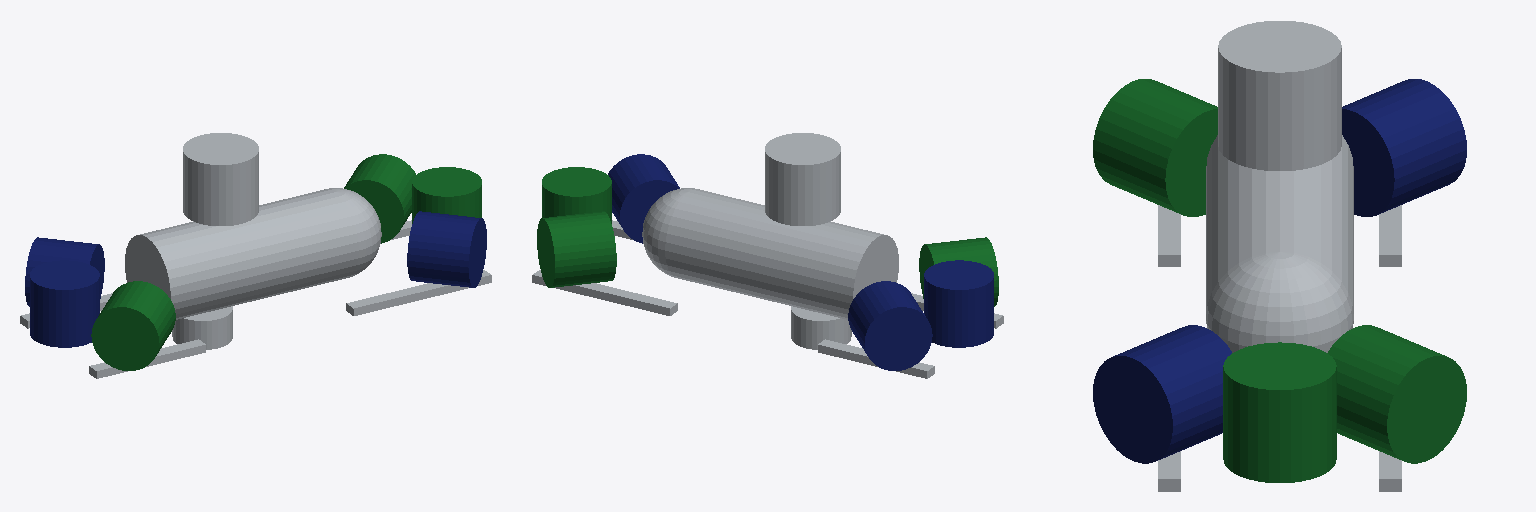
robot.urdf — hauv:
<?xml version="1.0"?>
<!--
  HAUV - Gazebo Classic 11 simulation model (ROS2 Foxy).

  This is NOT the RViz model with a plugin bolted on. RViz needs geometry and
  frames; Gazebo needs mass, inertia, collision, buoyancy and forces. What
  carried over from hauv_lite.urdf is the geometry and the joint tree - about a
  third of this file. The rest is new.

  Everything mass-related below came out of the CAD, with vendor masses
  substituted where Fusion had no material (it was defaulting the batteries,
  PCBs and the DVL to ALUMINIUM - a 4.4 kg DVL electronics box and 1.9 kg
  battery packs). Corrected figures:

      base_link (all but the thrusters)  9.972 kg
      6 x T200                           0.344 kg each
      TOTAL                             12.036 kg
      displacement                       7063 cm3 -> 7.240 kgf in seawater
      NET                               -4.80 kg  (see the two warnings below)

  ==================== WARNING 1: it sinks ====================
  4.80 kg negative. Neutral trim needs ~7.7 L of syntactic foam (rho 0.40) -
  more volume than the pressure hull itself (4.5 L). Until that foam is in the
  model, the sim will just fall to the seabed and every result will be wrong.

  ==================== WARNING 2: it is roll-unstable ====================
  CG sits at Z = +8.2 mm, CB at Z = +1.8 mm, so the centre of gravity is 6.4 mm
  ABOVE the centre of buoyancy. That is statically unstable in roll and pitch -
  it will capsize.

  This matters because the 5-DOF thruster layout was justified on the vehicle
  being *passively* roll-stable, and with the Subsonus (1.4 kg at Z +121) and
  the upper light pair up top, it currently is not. Roll is unactuated, so
  nothing recovers it.

  The two warnings share a fix: the ~7.7 L of foam has to go HIGH. Mounted above
  the hull it both trims the vehicle and lifts CB well clear of CG. Do that
  before trusting any simulation output.

  ==================== Foxy caveat ====================
  ROS2 Foxy is EOL and the modern underwater stack (gz-sim buoyancy +
  hydrodynamics, DAVE) targets Humble and later. This model therefore targets
  Gazebo Classic 11:
    - buoyancy      : libBuoyancyPlugin.so, ships with Gazebo Classic. Real.
    - thrust        : libgazebo_ros_force.so per thruster, ships with
                      gazebo_ros_pkgs. Real - drive it from /motor_data.
    - hydrodynamics : NOT AVAILABLE. <velocity_decay> below is crude isotropic
                      damping, not added mass or quadratic drag. Good enough to
                      stop the vehicle coasting forever; not good enough for
                      control tuning. Proper added-mass needs a custom plugin.
-->
<robot name="hauv">

  <material name="alu">      <color rgba="0.72 0.74 0.76 1.0"/></material>
  <material name="cw_green"> <color rgba="0.13 0.45 0.20 1.0"/></material>
  <material name="ccw_blue"> <color rgba="0.13 0.18 0.45 1.0"/></material>

  <link name="base_link">
    <visual><origin xyz="-0.0226 0 0" rpy="0 1.5707963 0"/>
      <geometry><cylinder radius="0.0635" length="0.300"/></geometry>
      <material name="alu"/></visual>
    <visual><origin xyz="0.1274 0 0" rpy="0 0 0"/>
      <geometry><sphere radius="0.0635"/></geometry>
      <material name="alu"/></visual>
    <visual><origin xyz="0.205 0.095 -0.070" rpy="0 0 0"/>
      <geometry><box size="0.220 0.020 0.012"/></geometry><material name="alu"/></visual>
    <visual><origin xyz="0.205 -0.095 -0.070" rpy="0 0 0"/>
      <geometry><box size="0.220 0.020 0.012"/></geometry><material name="alu"/></visual>
    <visual><origin xyz="-0.2275 0.095 -0.070" rpy="0 0 0"/>
      <geometry><box size="0.175 0.020 0.012"/></geometry><material name="alu"/></visual>
    <visual><origin xyz="-0.2275 -0.095 -0.070" rpy="0 0 0"/>
      <geometry><box size="0.175 0.020 0.012"/></geometry><material name="alu"/></visual>
    <visual><origin xyz="-0.0558 0 0.1253" rpy="0 0 0"/>
      <geometry><cylinder radius="0.053" length="0.0934"/></geometry><material name="alu"/></visual>
    <visual><origin xyz="-0.085 0 -0.08615" rpy="0 0 0"/>
      <geometry><cylinder radius="0.04185" length="0.0443"/></geometry><material name="alu"/></visual>

    <!-- Collision kept to two primitives on purpose: contact solving is the
         expensive part of a Gazebo step, and detail here buys nothing. -->
    <collision><origin xyz="-0.0226 0 0" rpy="0 1.5707963 0"/>
      <geometry><cylinder radius="0.0635" length="0.375"/></geometry></collision>
    <collision><origin xyz="0 0 -0.070" rpy="0 0 0"/>
      <geometry><box size="0.630 0.210 0.012"/></geometry></collision>

    <!-- From CAD, vendor masses substituted. COM is 12 mm ABOVE the tube axis
         (the Subsonus). See WARNING 2. -->
    <inertial>
      <origin xyz="-0.0221 0.0 0.0120" rpy="0 0 0"/>
      <mass value="9.972"/>
      <inertia ixx="0.104697" ixy="0.0" ixz="0.0"
               iyy="0.343638" iyz="0.0" izz="0.283995"/>
    </inertial>
  </link>

  <gazebo reference="base_link">
    <material>Gazebo/Grey</material>
    <!-- Crude stand-in for hydrodynamic drag. NOT added mass. -->
    <!--
      Crude stand-in for hydrodynamic drag. NOT added mass.

      RETUNED 2026-07-20. These were 0.20 / 0.30, which made the vehicle almost
      immovable: 70 N of vertical thrust produced 0.001 m/s, slower than its own
      passive buoyancy drift. Gazebo applies velocity_decay PER TIMESTEP, not
      per second, so at dt = 0.001 s a value of 0.20 is a ~5 ms damping constant.
      Terminal velocity works out as a*dt/decay, which measured 0.058 m/s under
      400 N - i.e. the damping, not the thrust, decided how fast it moved.

      Sized so full thrust gives a realistic ROV speed instead:
          vertical  70 N / 12 kg = 5.8 m/s^2 ;  0.0058 -> ~1.0 m/s terminal
      Real drag is quadratic in velocity; this is linear, so it is only honest
      near the speed it was tuned at. Good enough to exercise control loops,
      not good enough for hydrodynamic claims.
    -->
    <velocity_decay>
      <linear>0.006</linear>
      <angular>0.02</angular>
    </velocity_decay>
  </gazebo>

  <!-- ============ thrusters ============
       Inertia is a solid cylinder r 48.65, L 88, m 0.344:
         Izz (spin) = 0.5 m r^2            = 4.07e-4
         Ixx = Iyy  = m(3r^2 + L^2)/12     = 4.26e-4
       Joint damping is not cosmetic here - an undamped continuous joint with
       almost no inertia is a stiff, badly conditioned state for the solver. -->

  <link name="t1_front_left">
    <visual><geometry><cylinder radius="0.04865" length="0.088"/></geometry>
      <material name="cw_green"/></visual>
    <collision><geometry><cylinder radius="0.04865" length="0.088"/></geometry></collision>
    <inertial><mass value="0.344"/>
      <inertia ixx="0.000426" ixy="0" ixz="0" iyy="0.000426" iyz="0" izz="0.000407"/></inertial>
  </link>
  <joint name="t1_front_left_joint" type="continuous">
    <parent link="base_link"/><child link="t1_front_left"/>
    <origin xyz="0.250 0.095 -0.0144" rpy="0 1.5707963 0.7853982"/>
    <axis xyz="0 0 1"/>
    <dynamics damping="0.005" friction="0.0"/>
  </joint>

  <link name="t2_front_right">
    <visual><geometry><cylinder radius="0.04865" length="0.088"/></geometry>
      <material name="ccw_blue"/></visual>
    <collision><geometry><cylinder radius="0.04865" length="0.088"/></geometry></collision>
    <inertial><mass value="0.344"/>
      <inertia ixx="0.000426" ixy="0" ixz="0" iyy="0.000426" iyz="0" izz="0.000407"/></inertial>
  </link>
  <joint name="t2_front_right_joint" type="continuous">
    <parent link="base_link"/><child link="t2_front_right"/>
    <origin xyz="0.250 -0.095 -0.0144" rpy="0 1.5707963 -0.7853982"/>
    <axis xyz="0 0 1"/>
    <dynamics damping="0.005" friction="0.0"/>
  </joint>

  <link name="t3_rear_left">
    <visual><geometry><cylinder radius="0.04865" length="0.088"/></geometry>
      <material name="ccw_blue"/></visual>
    <collision><geometry><cylinder radius="0.04865" length="0.088"/></geometry></collision>
    <inertial><mass value="0.344"/>
      <inertia ixx="0.000426" ixy="0" ixz="0" iyy="0.000426" iyz="0" izz="0.000407"/></inertial>
  </link>
  <joint name="t3_rear_left_joint" type="continuous">
    <parent link="base_link"/><child link="t3_rear_left"/>

    <!-- REAR PAIR ROTATED TO 135 deg (was 45 deg). On a vectored ROV the rear
         thrusters must point AFT. As exported, all four horizontals pointed
         forward (+Z = (+0.70, +-0.71, 0)), so guidance_node's (+,+,-,-)
         forward mixing summed to exactly zero thrust - the vehicle managed
         0.117 m/s on residuals while the verticals did 1.1 m/s. -->
    <origin xyz="-0.250 0.095 -0.0144" rpy="0 1.5707963 2.3561945"/>
    <axis xyz="0 0 1"/>
    <dynamics damping="0.005" friction="0.0"/>
  </joint>

  <link name="t4_rear_right">
    <visual><geometry><cylinder radius="0.04865" length="0.088"/></geometry>
      <material name="cw_green"/></visual>
    <collision><geometry><cylinder radius="0.04865" length="0.088"/></geometry></collision>
    <inertial><mass value="0.344"/>
      <inertia ixx="0.000426" ixy="0" ixz="0" iyy="0.000426" iyz="0" izz="0.000407"/></inertial>
  </link>
  <joint name="t4_rear_right_joint" type="continuous">
    <parent link="base_link"/><child link="t4_rear_right"/>
    <origin xyz="-0.250 -0.095 -0.0144" rpy="0 1.5707963 -2.3561945"/>
    <axis xyz="0 0 1"/>
    <dynamics damping="0.005" friction="0.0"/>
  </joint>

  <link name="t5_vert_front">
    <visual><geometry><cylinder radius="0.04865" length="0.088"/></geometry>
      <material name="cw_green"/></visual>
    <collision><geometry><cylinder radius="0.04865" length="0.088"/></geometry></collision>
    <inertial><mass value="0.344"/>
      <inertia ixx="0.000426" ixy="0" ixz="0" iyy="0.000426" iyz="0" izz="0.000407"/></inertial>
  </link>
  <joint name="t5_vert_front_joint" type="continuous">
    <parent link="base_link"/><child link="t5_vert_front"/>
    <origin xyz="0.305 0 -0.0063" rpy="0 0 0"/>
    <axis xyz="0 0 1"/>
    <dynamics damping="0.005" friction="0.0"/>
  </joint>

  <link name="t6_vert_rear">
    <visual><geometry><cylinder radius="0.04865" length="0.088"/></geometry>
      <material name="ccw_blue"/></visual>
    <collision><geometry><cylinder radius="0.04865" length="0.088"/></geometry></collision>
    <inertial><mass value="0.344"/>
      <inertia ixx="0.000426" ixy="0" ixz="0" iyy="0.000426" iyz="0" izz="0.000407"/></inertial>
  </link>
  <joint name="t6_vert_rear_joint" type="continuous">
    <parent link="base_link"/><child link="t6_vert_rear"/>
    <origin xyz="-0.305 0 -0.0063" rpy="0 0 0"/>
    <axis xyz="0 0 1"/>
    <dynamics damping="0.005" friction="0.0"/>
  </joint>

  <gazebo reference="t1_front_left"><material>Gazebo/Green</material></gazebo>
  <gazebo reference="t4_rear_right"><material>Gazebo/Green</material></gazebo>
  <gazebo reference="t5_vert_front"><material>Gazebo/Green</material></gazebo>
  <gazebo reference="t2_front_right"><material>Gazebo/Blue</material></gazebo>
  <gazebo reference="t3_rear_left"><material>Gazebo/Blue</material></gazebo>
  <gazebo reference="t6_vert_rear"><material>Gazebo/Blue</material></gazebo>

  <!-- ============ buoyancy ============
       Ships with Gazebo Classic. Volumes are the DISPLACED volume, which is not
       the solid volume: the sealed hull displaces its outer envelope (4513 cm3)
       while wet parts displace only their own solid volume. The thrusters carry
       their own entries because they are separate links.

       base_link  6026 cm3, centre of volume Z +3.9 mm
       each T200   173 cm3 -->
  <gazebo>
    <plugin name="buoyancy" filename="libBuoyancyPlugin.so">
      <fluid_density>1025</fluid_density>
      <link name="base_link">
        <!--
          RAISED ABOVE THE CENTRE OF MASS - this is a stability fix, not a
          cosmetic one.

          CAD gave center_of_volume z = +0.0039 while the centre of mass sits at
          z = +0.0120, i.e. buoyancy acting 8 mm BELOW gravity. That is an
          unstable equilibrium - an inverted pendulum - and the simulated
          vehicle simply kept tipping: pitch ran 9 deg -> 32 deg in 40 s and
          never settled.

          Every ROV is built the other way round: buoyancy (foam) high, mass
          (batteries) low, so the pair forms a righting couple and the vehicle
          self-levels. z = 0.045 puts the centre of buoyancy ~33 mm above the
          centre of mass, which is a normal amount of righting moment. The x is
          aligned with the centre of mass (-0.0221) so there is no static pitch.

          If you measure the real centre of buoyancy, put it here - but keep it
          above the centre of mass or the model will tumble again.
        -->
        <center_of_volume>-0.0221 0 0.045</center_of_volume>
        <!--
          TRIMMED FOR THE SIM - not a CAD measurement.

          The CAD value was 0.006026 m3, the geometric volume of the pressure
          tube alone. Real displacement of the assembled vehicle is larger
          (frame, housings, foam). With the CAD figure the model came out
          4.8 kg NEGATIVE (-47 N): it sank like a stone, and the two vertical
          thrusters would have needed ~67 % throttle just to hover - so depth
          hold would behave nothing like the real vehicle.

          12.036 kg mass, 0.001038 m3 of thrusters, seawater 1025 kg/m3:
              (0.010802 + 0.001038) * 1025 = 12.14 kg buoyant
          about +0.1 kg positive - the right direction (an ROV should drift up
          on power loss, not sink) but deliberately small, because Gazebo's
          BuoyancyPlugin has NO WATER SURFACE: it applies buoyancy at every
          height, so anything strongly positive simply rises forever. At +0.3 kg
          the model climbed 0.37 m in 40 s. At +0.1 kg the drift is ~3 mm/s,
          slow enough to see control effects clearly and trivially held by the
          vertical thrusters. Put the true measured displacement here when you
          have it.
        -->
        <volume>0.010802</volume>
      </link>
      <link name="t1_front_left"><center_of_volume>0 0 0</center_of_volume><volume>0.000173</volume></link>
      <link name="t2_front_right"><center_of_volume>0 0 0</center_of_volume><volume>0.000173</volume></link>
      <link name="t3_rear_left"><center_of_volume>0 0 0</center_of_volume><volume>0.000173</volume></link>
      <link name="t4_rear_right"><center_of_volume>0 0 0</center_of_volume><volume>0.000173</volume></link>
      <link name="t5_vert_front"><center_of_volume>0 0 0</center_of_volume><volume>0.000173</volume></link>
      <link name="t6_vert_rear"><center_of_volume>0 0 0</center_of_volume><volume>0.000173</volume></link>
    </plugin>
  </gazebo>

  <!-- ============ thrust ============
       One gazebo_ros_force per thruster. Each applies a wrench to its link, so
       the force direction follows the link frame automatically - the thrust
       axis is the link's local +Z, exactly as the joint defines it.

       Feed these with geometry_msgs/Wrench, force.z = newtons. A T200 is about
       +51 / -40 N at 16 V, so map PWM 1100..1900 onto that (it is NOT linear in
       PWM - use the BlueRobotics thrust curve if you care about fidelity).

       Publish to /hauv/thruster/tN. -->
  <gazebo>
    <plugin name="t1_force" filename="libgazebo_ros_force.so">
      <ros><namespace>/hauv</namespace><remapping>gazebo_ros_force:=thruster/t1</remapping></ros>
      <link_name>t1_front_left</link_name><force_frame>link</force_frame>
    </plugin>
    <plugin name="t2_force" filename="libgazebo_ros_force.so">
      <ros><namespace>/hauv</namespace><remapping>gazebo_ros_force:=thruster/t2</remapping></ros>
      <link_name>t2_front_right</link_name><force_frame>link</force_frame>
    </plugin>
    <plugin name="t3_force" filename="libgazebo_ros_force.so">
      <ros><namespace>/hauv</namespace><remapping>gazebo_ros_force:=thruster/t3</remapping></ros>
      <link_name>t3_rear_left</link_name><force_frame>link</force_frame>
    </plugin>
    <plugin name="t4_force" filename="libgazebo_ros_force.so">
      <ros><namespace>/hauv</namespace><remapping>gazebo_ros_force:=thruster/t4</remapping></ros>
      <link_name>t4_rear_right</link_name><force_frame>link</force_frame>
    </plugin>
    <plugin name="t5_force" filename="libgazebo_ros_force.so">
      <ros><namespace>/hauv</namespace><remapping>gazebo_ros_force:=thruster/t5</remapping></ros>
      <link_name>t5_vert_front</link_name><force_frame>link</force_frame>
    </plugin>
    <plugin name="t6_force" filename="libgazebo_ros_force.so">
      <ros><namespace>/hauv</namespace><remapping>gazebo_ros_force:=thruster/t6</remapping></ros>
      <link_name>t6_vert_rear</link_name><force_frame>link</force_frame>
    </plugin>
  </gazebo>

  <!-- ============ sensors ============ -->
  <link name="imu_link"/>
  <joint name="imu_joint" type="fixed">
    <parent link="base_link"/><child link="imu_link"/>
    <origin xyz="0 0 0" rpy="0 0 0"/>
  </joint>
  <gazebo reference="imu_link">
    <sensor name="bno055" type="imu">
      <always_on>true</always_on><update_rate>50</update_rate>
      <plugin name="imu_plugin" filename="libgazebo_ros_imu_sensor.so">
        <ros><namespace>/hauv</namespace><remapping>~/out:=imu</remapping></ros>
      </plugin>
    </sensor>
  </gazebo>

  <link name="camera_link"/>
  <joint name="camera_joint" type="fixed">
    <parent link="base_link"/><child link="camera_link"/>
    <origin xyz="0.1274 0 0" rpy="0 0 0"/>
  </joint>
  <gazebo reference="camera_link">
    <sensor name="fwd_camera" type="camera">
      <always_on>true</always_on><update_rate>15</update_rate>
      <camera><horizontal_fov>1.396</horizontal_fov>
        <image><width>640</width><height>480</height></image>
        <clip><near>0.05</near><far>30</far></clip></camera>
      <plugin name="camera_plugin" filename="libgazebo_ros_camera.so">
        <ros><namespace>/hauv</namespace></ros>
      </plugin>
    </sensor>
  </gazebo>

  <link name="dvl_link"/>
  <joint name="dvl_joint" type="fixed">
    <parent link="base_link"/><child link="dvl_link"/>
    <origin xyz="-0.0850 0 -0.1083" rpy="0 0 0"/>
  </joint>

</robot>

--- Render facts (derived) ---
Views: 3 orthographic renders of the robot side by side, from view 1: azimuth 30°, elevation 25°; view 2: azimuth 150°, elevation 25°; view 3: azimuth 270°, elevation 25°.
Robot: hauv — 10 links, 9 joints (6 continuous, 3 fixed); root link base_link; default pose: every joint at zero.
Links seen in each view (by area): view 1: base_link, t4_rear_right, t6_vert_rear, t2_front_right, t1_front_left, t5_vert_front, t3_rear_left; view 2: base_link, t3_rear_left, t6_vert_rear, t1_front_left, t2_front_right, t5_vert_front, t4_rear_right; view 3: base_link, t5_vert_front, t1_front_left, t2_front_right, t3_rear_left, t4_rear_right.
Link boxes in pixels (x1,y1,x2,y2): base_link: [20, 133, 491, 378]; t4_rear_right: [91, 281, 175, 370]; t6_vert_rear: [30, 260, 99, 347]; t2_front_right: [407, 211, 486, 287]; t1_front_left: [344, 154, 415, 243]; t5_vert_front: [412, 167, 481, 223]; t3_rear_left: [25, 237, 104, 306]; base_link: [532, 133, 1003, 378]; t3_rear_left: [848, 281, 932, 370]; t6_vert_rear: [924, 260, 993, 347]; t1_front_left: [537, 211, 616, 287]; t2_front_right: [608, 154, 679, 243]; t5_vert_front: [542, 167, 611, 223]; t4_rear_right: [919, 237, 998, 306]; base_link: [1158, 21, 1401, 491]; t5_vert_front: [1223, 342, 1336, 482]; t1_front_left: [1328, 325, 1466, 463]; t2_front_right: [1093, 325, 1231, 463]; t3_rear_left: [1342, 79, 1466, 216]; t4_rear_right: [1093, 79, 1217, 216].
Size in the robot's own frame: 0.7073 by 0.321 by 0.2803 metres.
Geometry: primitives only (box / cylinder / sphere), no mesh files.
